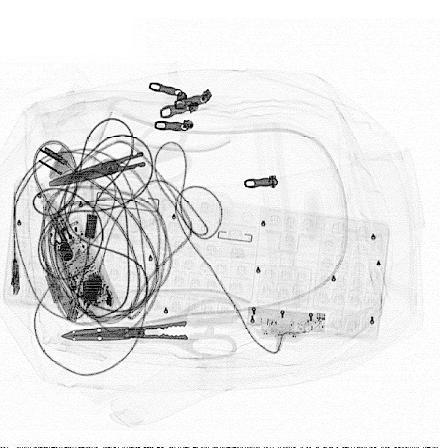Scissors: (59, 295, 242, 363), (47, 117, 195, 187)
